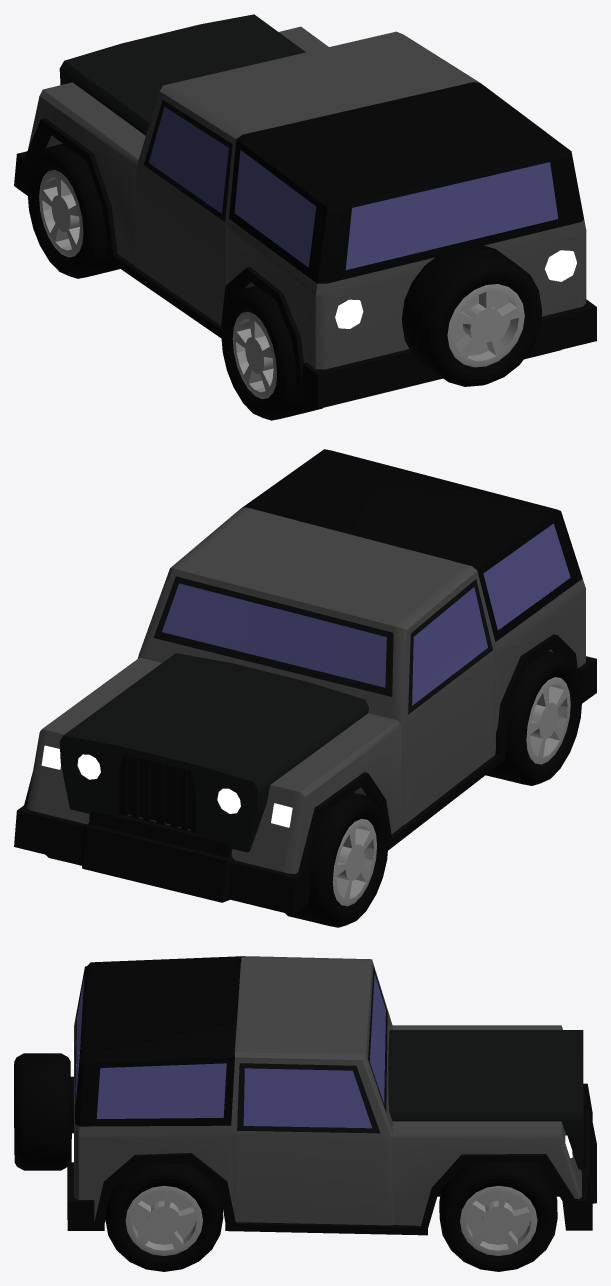
Rendered from thar.glb.
3 renders of one model, top to bottom at view 1: azimuth 30°, elevation 25°; view 2: azimuth 150°, elevation 25°; view 3: azimuth 270°, elevation 25°, orthographic. The views are drawn at different scales.
Parts seen in each view (by area): view 1: Object_2, Object_3, Object_6, Object_10, Object_8; view 2: Object_2, Object_3, Object_6, Object_10, Object_8; view 3: Object_2, Object_3, Object_6, Object_10.
Part boxes in pixels (<box>): Object_2: <box>14,14,596,420</box>; Object_3: <box>28,26,586,369</box>; Object_6: <box>148,83,558,269</box>; Object_10: <box>39,170,524,399</box>; Object_8: <box>335,250,576,328</box>; Object_2: <box>14,449,596,927</box>; Object_3: <box>26,507,585,873</box>; Object_6: <box>162,508,570,705</box>; Object_10: <box>332,677,570,906</box>; Object_8: <box>41,745,292,827</box>; Object_2: <box>14,956,596,1271</box>; Object_3: <box>74,956,581,1225</box>; Object_6: <box>75,974,385,1128</box>; Object_10: <box>125,1185,537,1255</box>.
Bounding box in the file's own units: 0.9121 × 0.7008 × 1.77.
5 materials, 5 textured.
